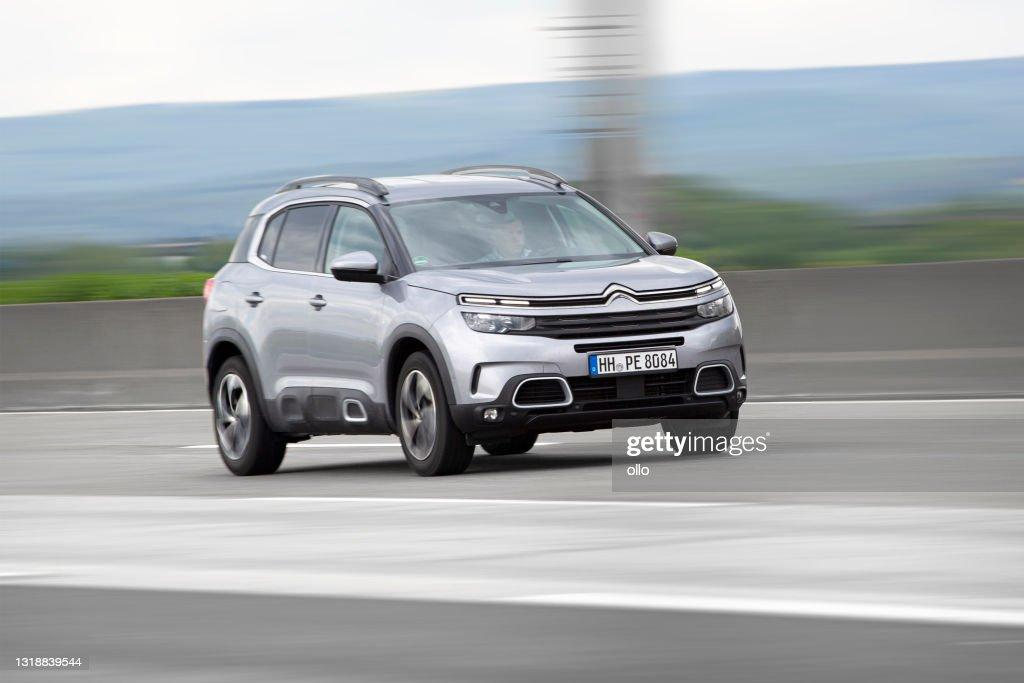Citroen: (593, 271, 648, 317)
